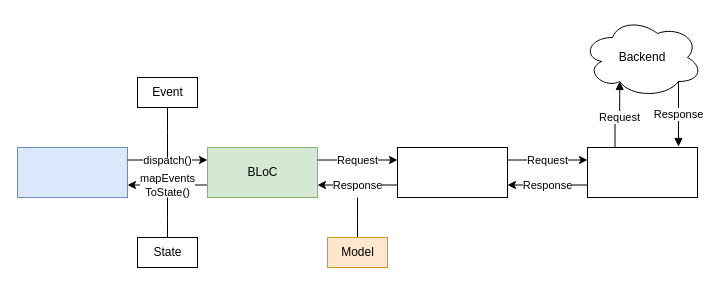
The diagram is 721 pixels wide and 285 high, and some of its shapes have lost their labels. The centre of each missing label's shape, as x and y in pixels:
"Client" belongs at (642,172).
"Repository" belongs at (452,172).
"View" belongs at (72,172).
